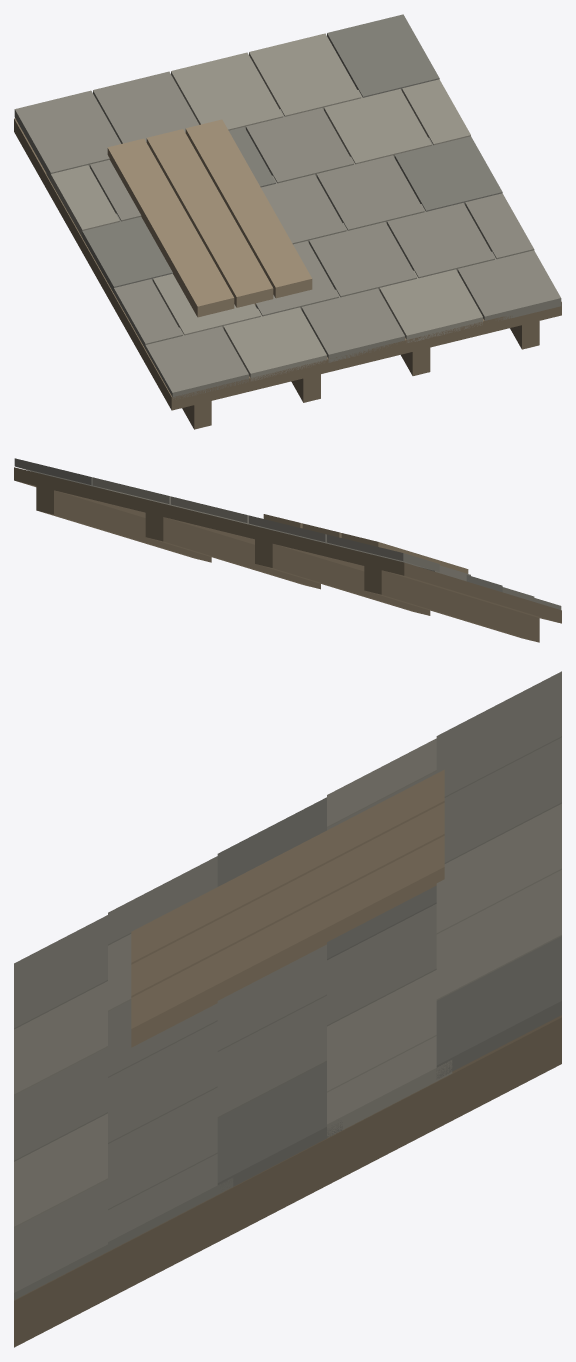
File: env_roof_shingle_timber_patch_c_v01_broad_patch.glb
3 views of the same model, one above another, from view 1: azimuth 30°, elevation 25°; view 2: azimuth 150°, elevation 25°; view 3: azimuth 270°, elevation 25° (orthographic). The views are drawn at different scales.
Parts seen in each view (by area): view 1: material_4, material_5, material_3, material_6, material_2; view 2: material_2, material_4, material_5, material_3, material_6; view 3: material_4, material_5, material_3, material_2, material_6.
Boxes of the visible parts, x1,y1,x2,y2 form: material_4: [14, 71, 561, 399]; material_5: [46, 33, 482, 381]; material_3: [107, 119, 312, 317]; material_6: [82, 14, 502, 292]; material_2: [14, 118, 561, 429]; material_2: [14, 467, 561, 642]; material_4: [249, 515, 561, 609]; material_5: [93, 477, 470, 581]; material_3: [263, 514, 468, 573]; material_6: [14, 458, 502, 592]; material_4: [14, 671, 561, 1300]; material_5: [14, 738, 561, 1227]; material_3: [131, 769, 444, 1047]; material_2: [14, 1015, 561, 1347]; material_6: [217, 797, 561, 1189].
Size of the model in its own units: 2 by 1.03 by 1.4.
